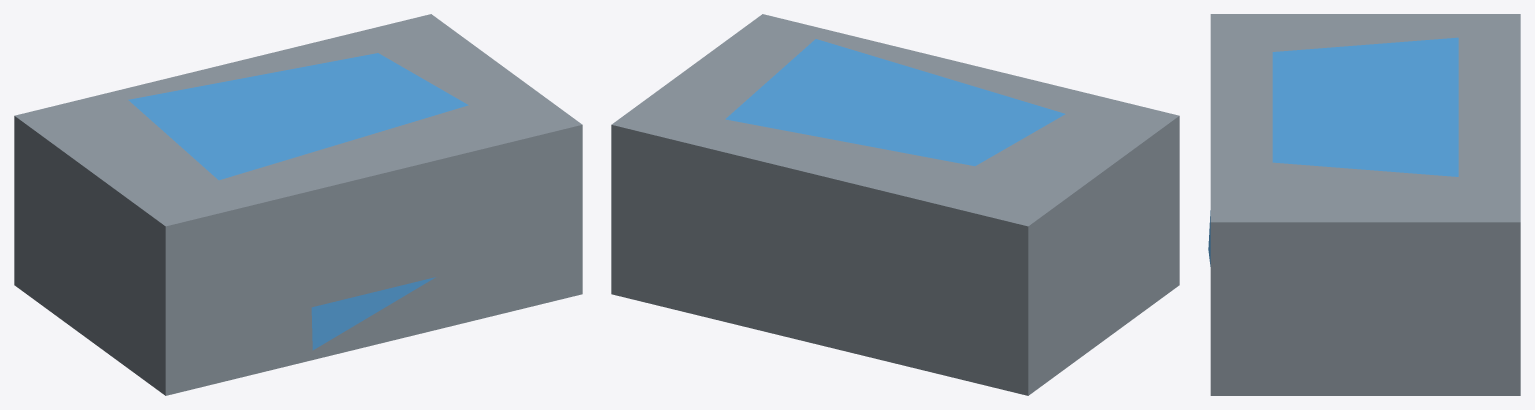
File: AL_CitadelTank_LOD1.glb
3 views of the same model, side by side, from view 1: azimuth 30°, elevation 25°; view 2: azimuth 150°, elevation 25°; view 3: azimuth 270°, elevation 25° (orthographic). The views are drawn at different scales.
Parts seen in each view (by area): view 1: EntranceGate; view 2: EntranceGate; view 3: EntranceGate.
Boxes of the visible parts, <box> form: EntranceGate: <box>14,14,582,395</box>; EntranceGate: <box>611,14,1179,395</box>; EntranceGate: <box>1208,14,1520,395</box>.
Size of the model in its own units: 700 by 300 by 443.
